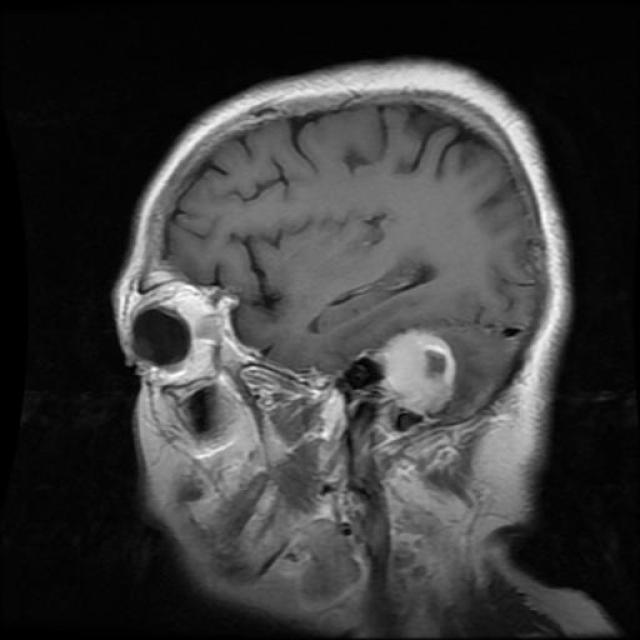meningioma: (374, 334, 456, 416)
